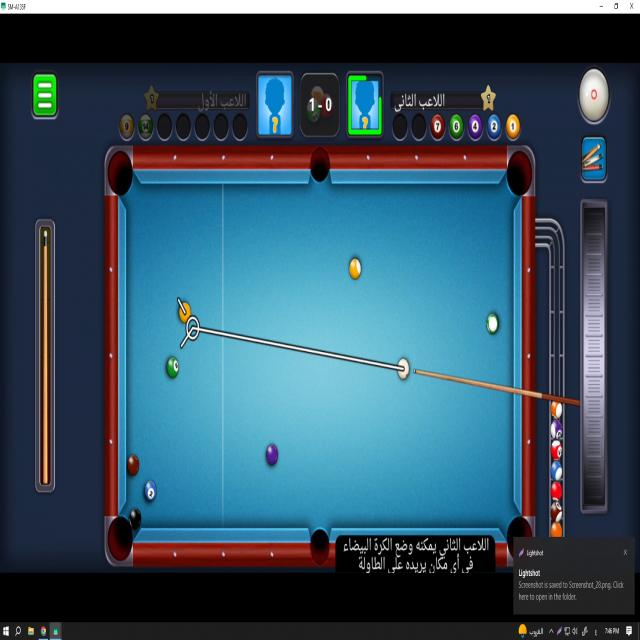object_ball: (266, 444, 278, 465), (349, 258, 361, 279), (129, 508, 141, 529), (127, 455, 139, 475), (179, 302, 190, 323), (145, 480, 156, 501), (487, 313, 498, 334), (167, 357, 178, 378)
white_cue_ball: (398, 358, 409, 379)
